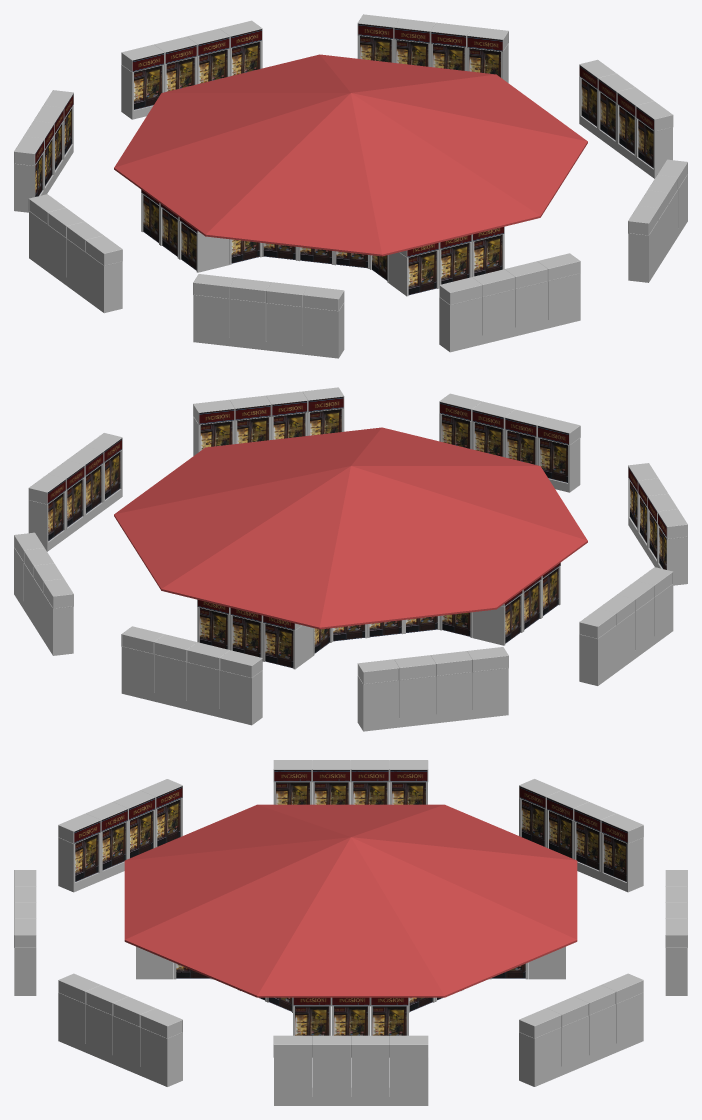
File: negozi storici-r3.fbx
3 views of the same model, one above another, from view 1: azimuth 30°, elevation 25°; view 2: azimuth 150°, elevation 25°; view 3: azimuth 270°, elevation 25° (orthographic). The views are drawn at different scales.
Parts seen in each view (by area): view 1: COPERTURA, Polygon_20_2_0_3, Polygon_20_2_3_4, Polygon_20_2_3_7, Polygon_20_2_3_5, Polygon_20_2_1_4, Polygon_20_2_0_4, Polygon_20_2_2_4, Polygon_20_3_6, Polygon_20_2_0, Polygon_20_2_1_3, Polygon_20_2_2_3 (+33 smaller); view 2: COPERTURA, Polygon_20_2_3_7, Polygon_20_2_0_6, Polygon_20_2_0_3, Polygon_20_2_0_5, Polygon_20_2_1_6, Polygon_20_2_2_6, Polygon_20_2_3_6, Polygon_20_1_7, Polygon_20_2_3, Polygon_20_2_0_7, Polygon_20_2_1_7 (+33 smaller); view 3: COPERTURA, Polygon_20_2_3_2, Polygon_20_2_0_8, Polygon_20_2_3_4, Polygon_20_2_0_6, Polygon_20_2_0, Polygon_20_2_3, Polygon_20_2_1, Polygon_20_2_2, Polygon_20_2_0_2, Polygon_20_2_3_8, Polygon_20_2_2_2 (+25 smaller).
Part boxes in pixels (<box>): COPERTURA: <box>114,54,587,256</box>; Polygon_20_2_0_3: <box>439,277,482,343</box>; Polygon_20_2_3_4: <box>302,286,344,349</box>; Polygon_20_2_3_7: <box>121,44,164,110</box>; Polygon_20_2_3_5: <box>85,235,122,304</box>; Polygon_20_2_1_4: <box>229,278,271,341</box>; Polygon_20_2_0_4: <box>193,274,234,337</box>; Polygon_20_2_2_4: <box>266,282,307,345</box>; Polygon_20_3_6: <box>388,242,439,296</box>; Polygon_20_2_0: <box>636,101,673,170</box>; Polygon_20_2_1_3: <box>472,269,515,335</box>; Polygon_20_2_2_3: <box>505,261,547,327</box>; COPERTURA: <box>114,427,587,629</box>; Polygon_20_2_3_7: <box>219,650,262,716</box>; Polygon_20_2_0_6: <box>357,659,399,722</box>; Polygon_20_2_0_3: <box>537,417,580,483</box>; Polygon_20_2_0_5: <box>579,608,616,677</box>; Polygon_20_2_1_6: <box>394,655,435,718</box>; Polygon_20_2_2_6: <box>430,651,472,714</box>; Polygon_20_2_3_6: <box>467,647,508,710</box>; Polygon_20_1_7: <box>262,615,313,669</box>; Polygon_20_2_3: <box>28,474,65,543</box>; Polygon_20_2_0_7: <box>121,626,164,692</box>; Polygon_20_2_1_7: <box>154,634,197,700</box>; COPERTURA: <box>124,804,577,997</box>; Polygon_20_2_3_2: <box>140,1008,182,1078</box>; Polygon_20_2_0_8: <box>519,1008,561,1078</box>; Polygon_20_2_3_4: <box>58,813,100,883</box>; Polygon_20_2_0_6: <box>601,813,643,883</box>; Polygon_20_2_0: <box>273,1035,312,1096</box>; Polygon_20_2_3: <box>389,1035,428,1096</box>; Polygon_20_2_1: <box>312,1035,350,1096</box>; Polygon_20_2_2: <box>351,1035,389,1096</box>; Polygon_20_2_0_2: <box>58,973,100,1043</box>; Polygon_20_2_3_8: <box>601,973,643,1043</box>; Polygon_20_2_2_2: <box>113,996,155,1066</box>.
Bounding box in the file's own units: 32.72 × 6.77 × 32.72.
